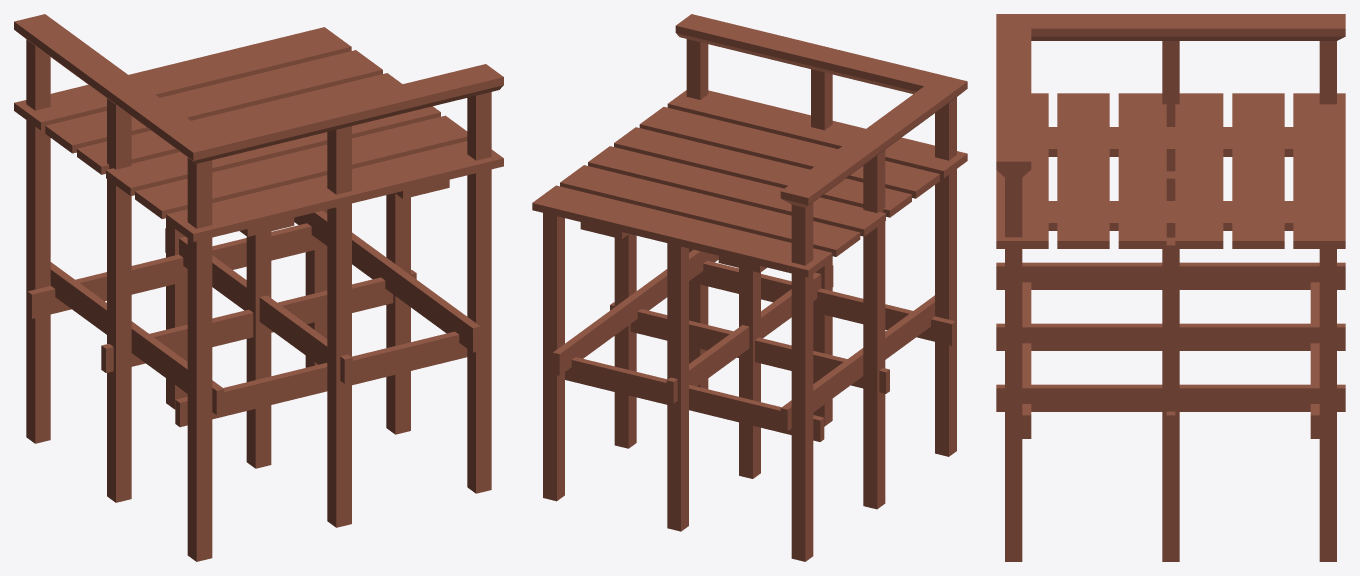
File: scaffold_high_cornerRight 1.fbx
The picture shows the model from 3 angles, left to right: view 1: azimuth 30°, elevation 25°; view 2: azimuth 150°, elevation 25°; view 3: azimuth 270°, elevation 25°; orthographic projection. The views are drawn at different scales.
Parts seen in each view (by area): view 1: scaffold_high_cornerRight; view 2: scaffold_high_cornerRight; view 3: scaffold_high_cornerRight.
Part boxes in pixels (x1=…): scaffold_high_cornerRight: x1=14, y1=14, x2=503, y2=561; scaffold_high_cornerRight: x1=532, y1=14, x2=967, y2=561; scaffold_high_cornerRight: x1=996, y1=14, x2=1345, y2=561.
Size of the model in its own units: 400 by 510 by 400.
